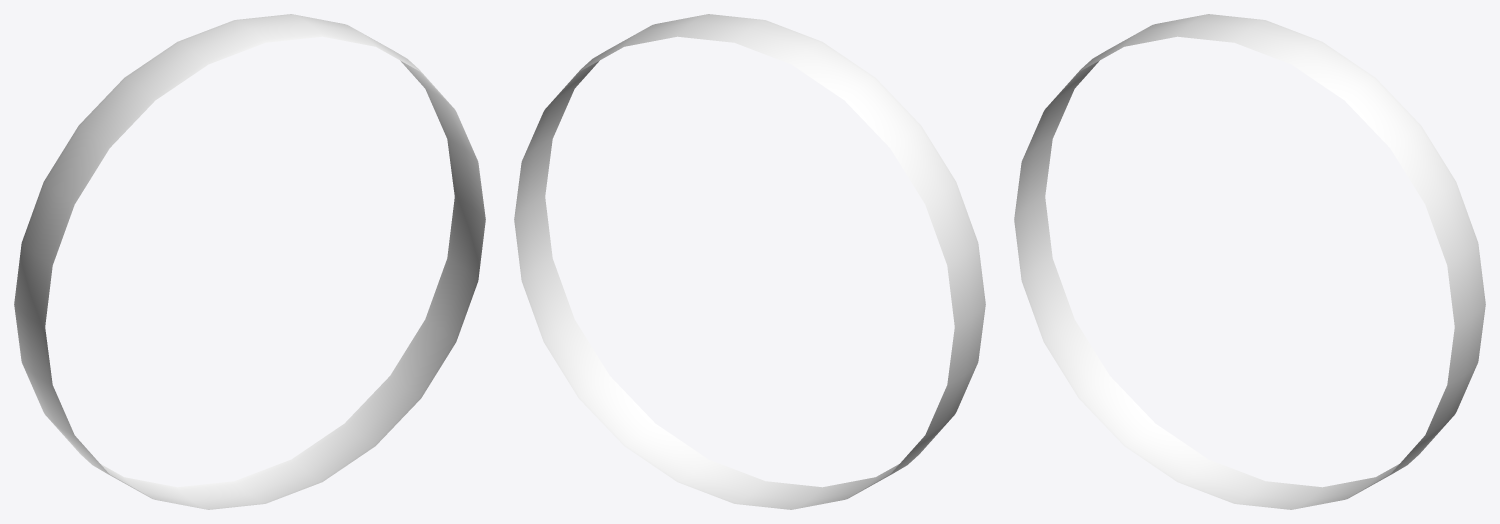
The model's file is cutout_ring.fbx.
The picture shows the model from 3 angles, left to right: view 1: azimuth 30°, elevation 25°; view 2: azimuth 150°, elevation 25°; view 3: azimuth 330°, elevation 25°; orthographic projection.
Visible parts, largest first — view 1: Sphere.001; view 2: Sphere.001; view 3: Sphere.001.
Part boxes in pixels (x1,y1,x2,y2): Sphere.001: [14, 14, 485, 509]; Sphere.001: [514, 14, 985, 509]; Sphere.001: [1014, 14, 1485, 509].
Size of the model in its own units: 203 by 203 by 24.55.
